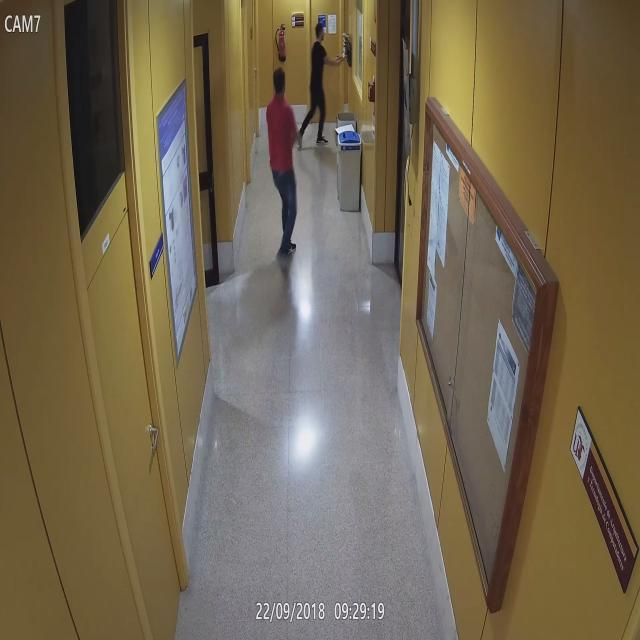pistol: (334, 52, 344, 68)
